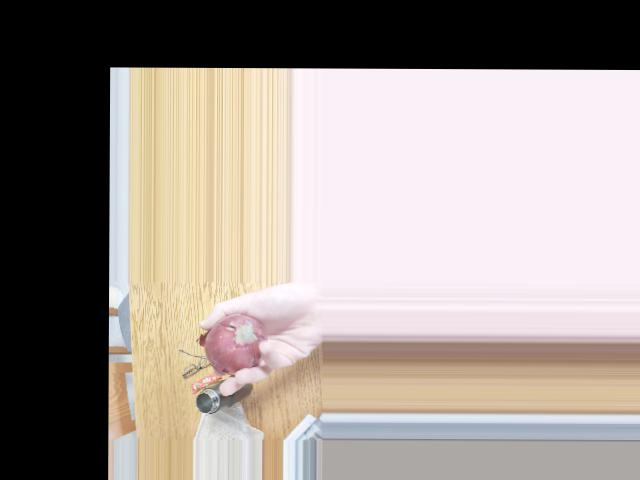onion: (208, 314, 265, 364)
